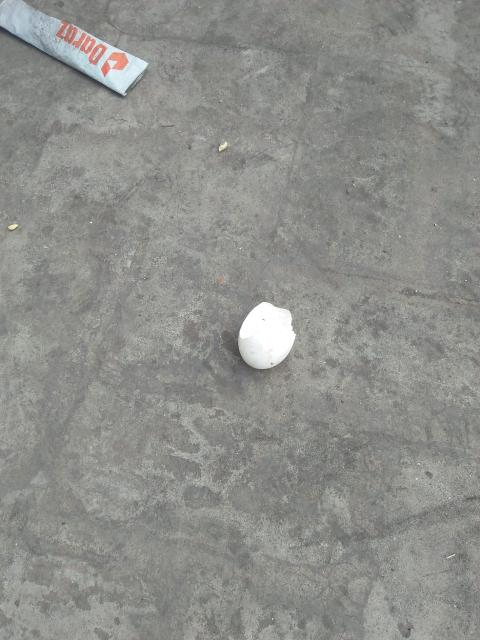Roto: (237, 300, 296, 370)
